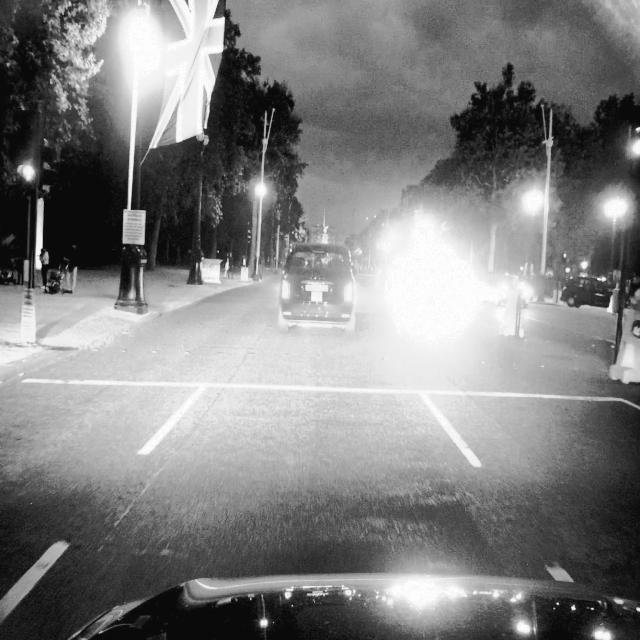Light: (16, 111, 38, 185), (38, 138, 58, 190)
